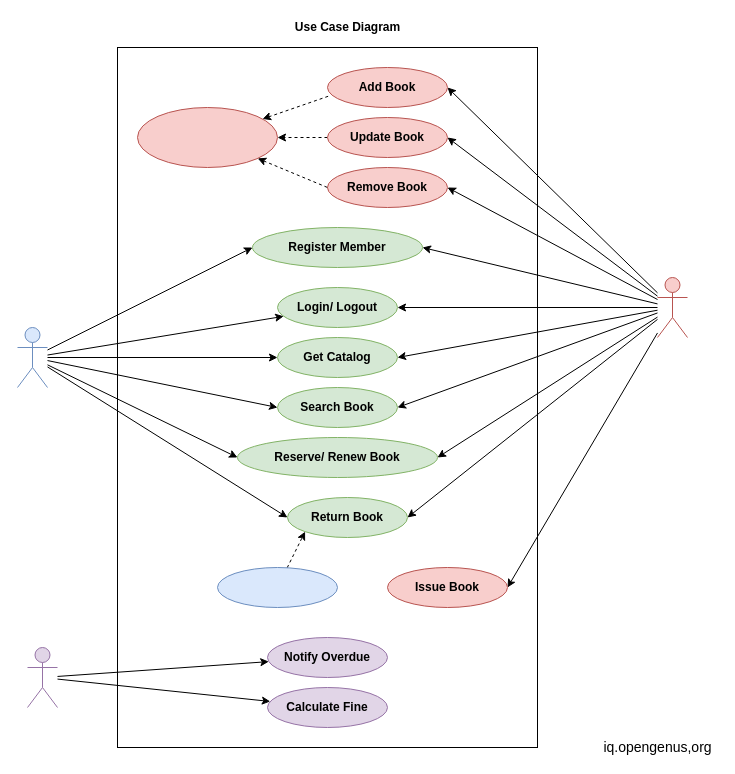
The diagram is 735 pixels wide and 774 high, and some of its shapes have lost their labels. The shapes that lost their labels are listed below. From the top down, each one's centre as x and y in pixels, then its label:
the point at 207,137: Update Catalog
the point at 672,307: Librarian
the point at 32,357: User
the point at 277,587: Pay Fine
the point at 42,677: System
